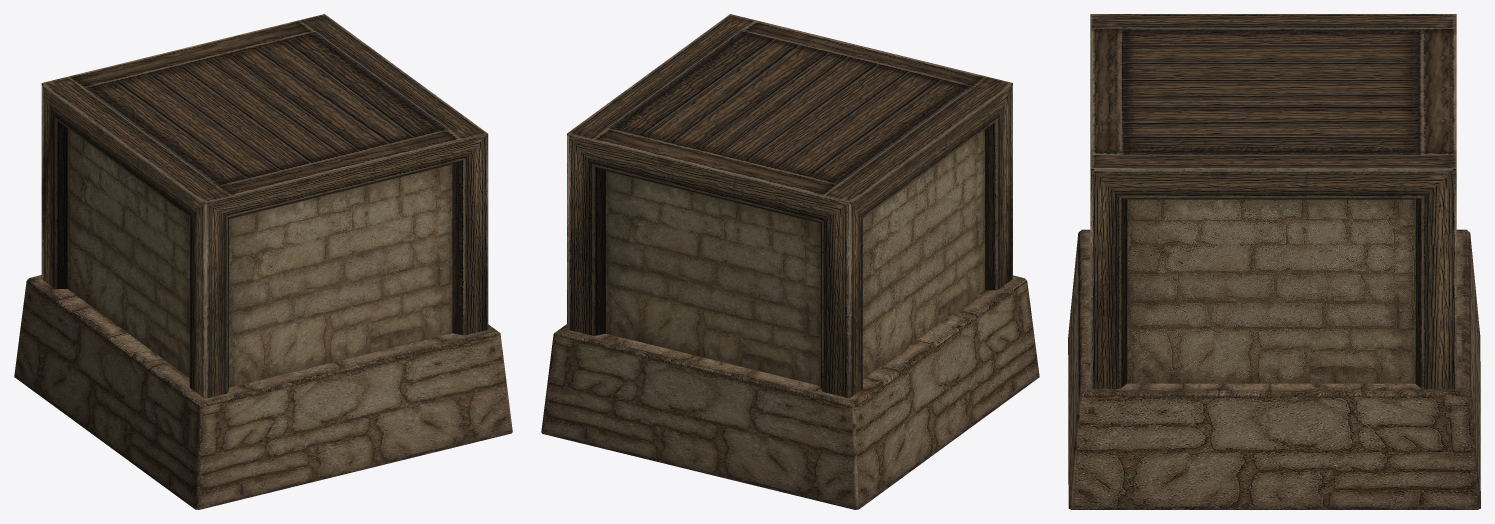
File: House_4X4_02b.fbx
3 views of the same model, side by side, from view 1: azimuth 30°, elevation 25°; view 2: azimuth 150°, elevation 25°; view 3: azimuth 270°, elevation 25° (orthographic). The views are drawn at different scales.
Visible parts, largest first — view 1: House_4X4_02b; view 2: House_4X4_02b; view 3: House_4X4_02b.
Part boxes in pixels (left/top/right/bottom): House_4X4_02b: left=14, top=14, right=512, bottom=509; House_4X4_02b: left=541, top=14, right=1039, bottom=509; House_4X4_02b: left=1068, top=14, right=1480, bottom=509.
Size of the model in its own units: 4.49 by 4 by 4.5.
